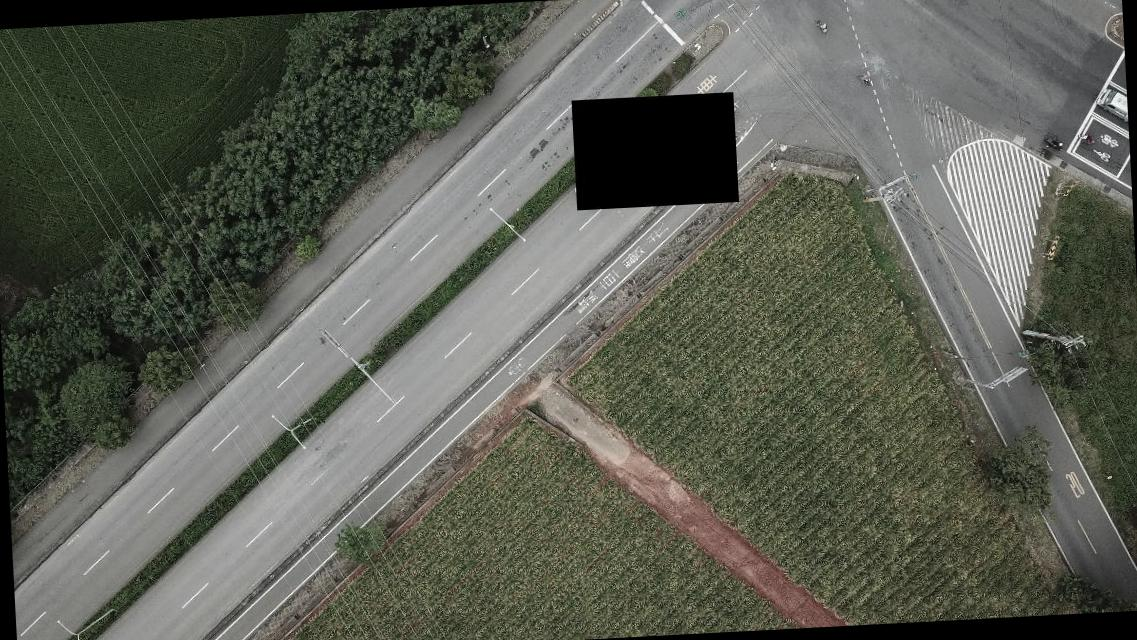vehicle: (1096, 87, 1126, 125)
